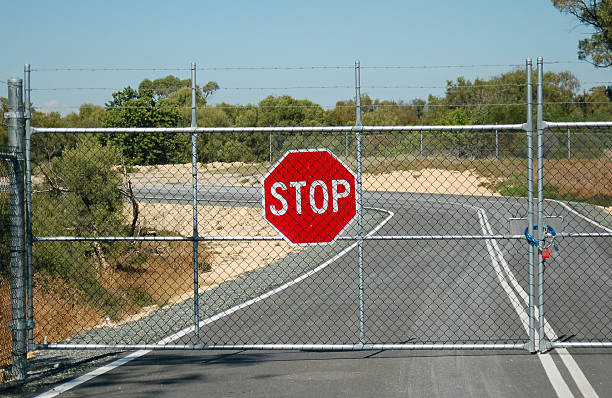stopsign: (262, 148, 360, 247)
